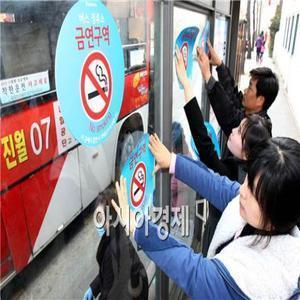07bus: (1, 5, 160, 282)
